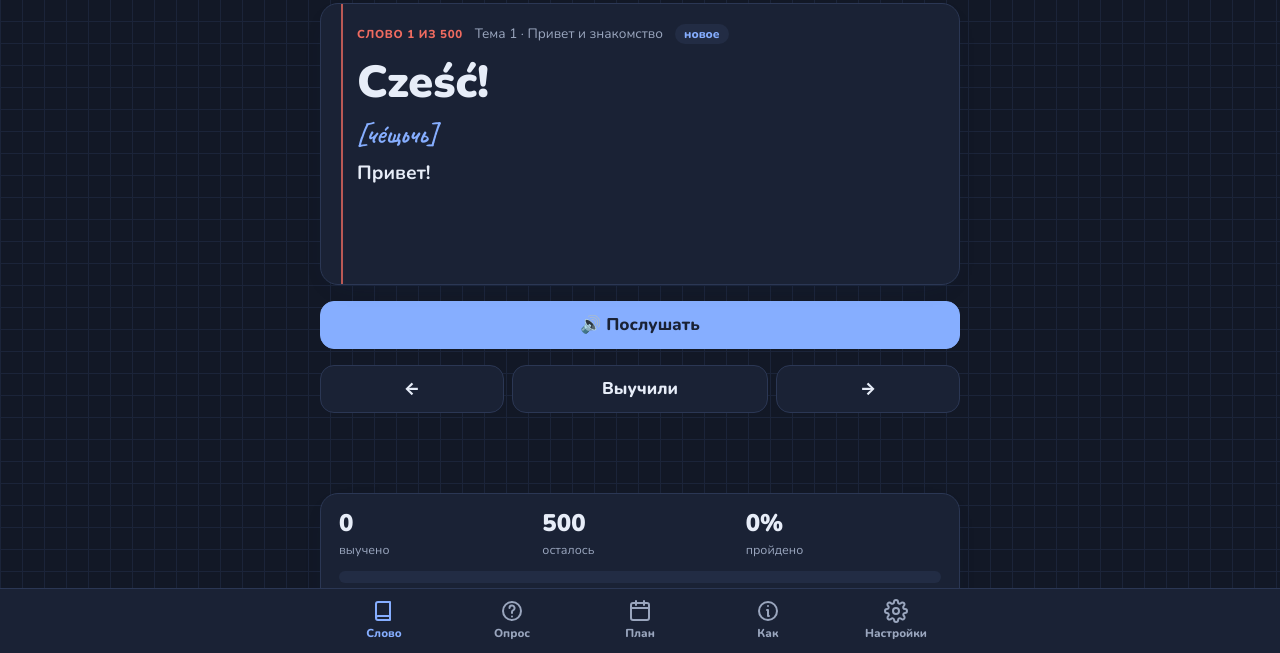
Scenario: streak line › local day: a mark at 00:30 counts for the new day after yesterday
The width and height of the screenshot is (1280, 653).
Click the button "Выучили" at (640, 389), box x1=512 y1=365 x2=768 y2=413
(page scrolled)
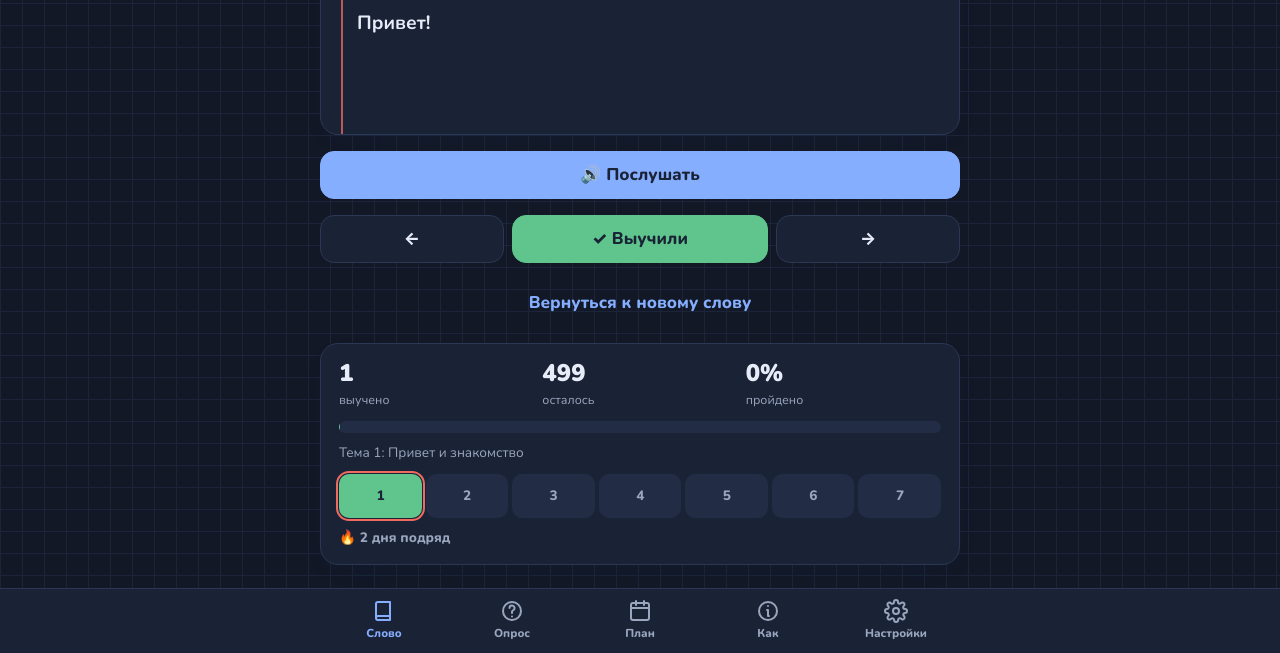
Check: the text with class "streak" reads "🔥 2 дня подряд", box x1=339 y1=528 x2=450 y2=547
